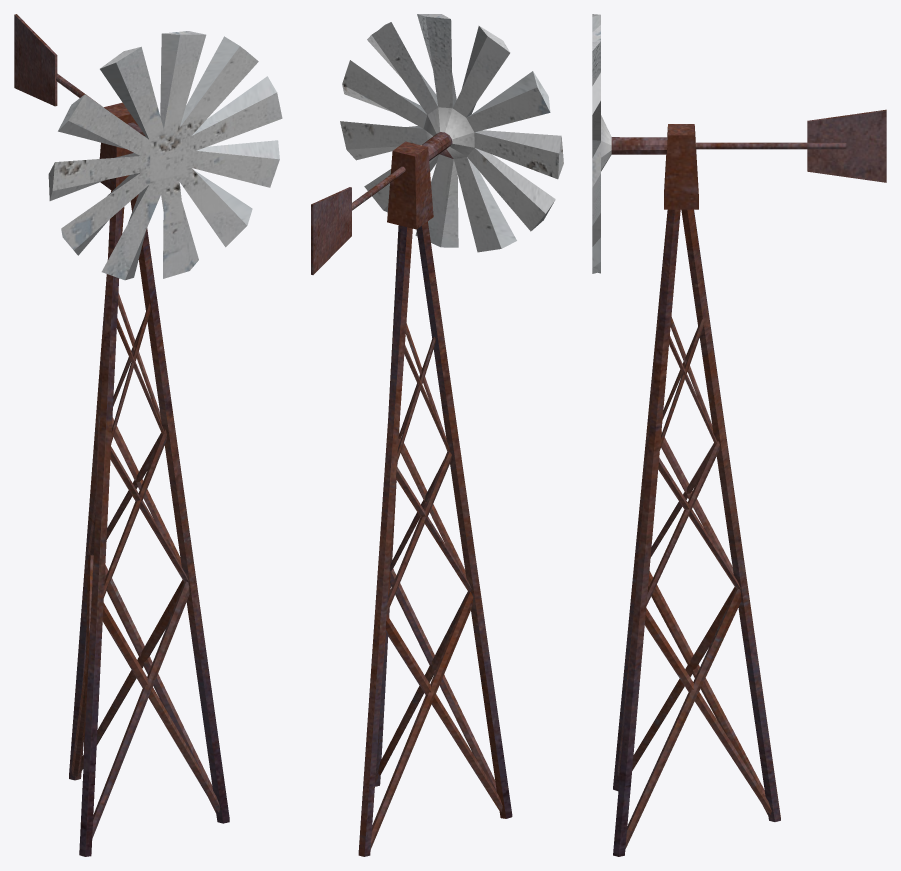
Rendered from Windmill.fbx.
3 renders of one model, left to right at view 1: azimuth 30°, elevation 25°; view 2: azimuth 150°, elevation 25°; view 3: azimuth 270°, elevation 25°, orthographic. The views are drawn at different scales.
Visible parts, largest first — view 1: Windmill; view 2: Windmill; view 3: Windmill.
Boxes of the visible parts, x1,y1,x2,y2 form: Windmill: (14,14,282,856); Windmill: (311,14,563,856); Windmill: (592,14,886,856).
Bounding box in the file's own units: 27.75 × 93.62 × 31.4.
Materials: 1 (1 with a texture image).
